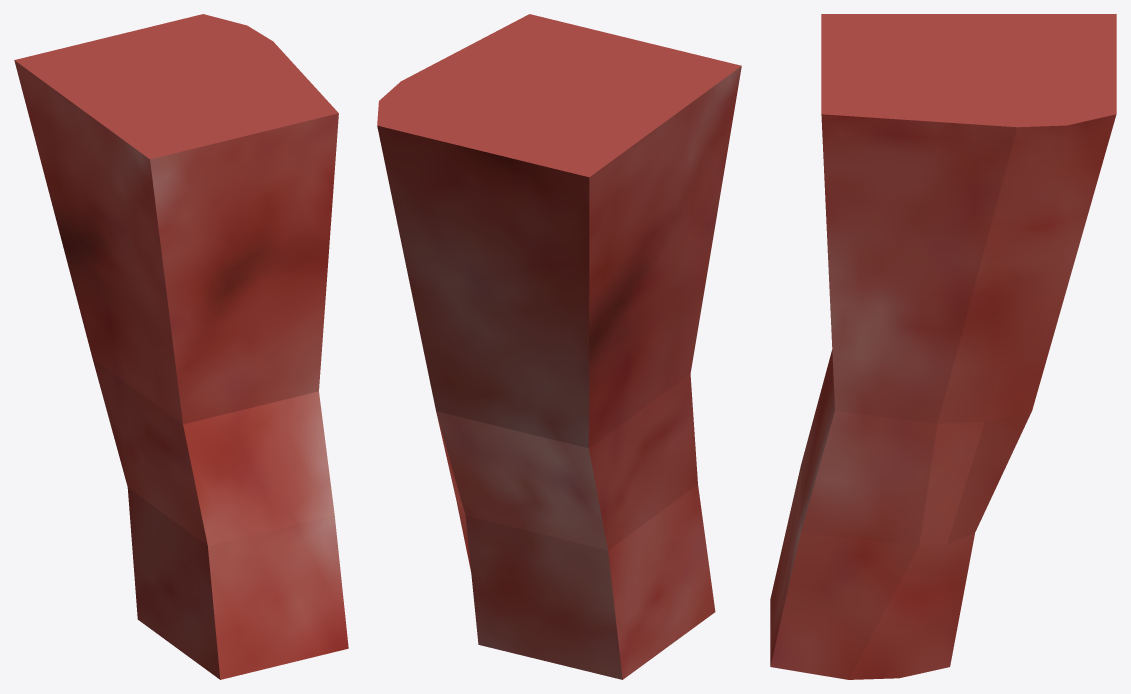
The model's file is GoatMan_Gib_Leg - Copy.fbx.
The picture shows the model from 3 angles, left to right: view 1: azimuth 30°, elevation 25°; view 2: azimuth 150°, elevation 25°; view 3: azimuth 270°, elevation 25°; orthographic projection. The views are drawn at different scales.
Visible parts, largest first — view 1: Body; view 2: Body; view 3: Body.
Part boxes in pixels (bbox=[...]): Body: bbox=[14, 14, 348, 679]; Body: bbox=[377, 14, 741, 679]; Body: bbox=[770, 14, 1116, 679].
Bounding box in the file's own units: 27.88 × 64.29 × 36.01.
